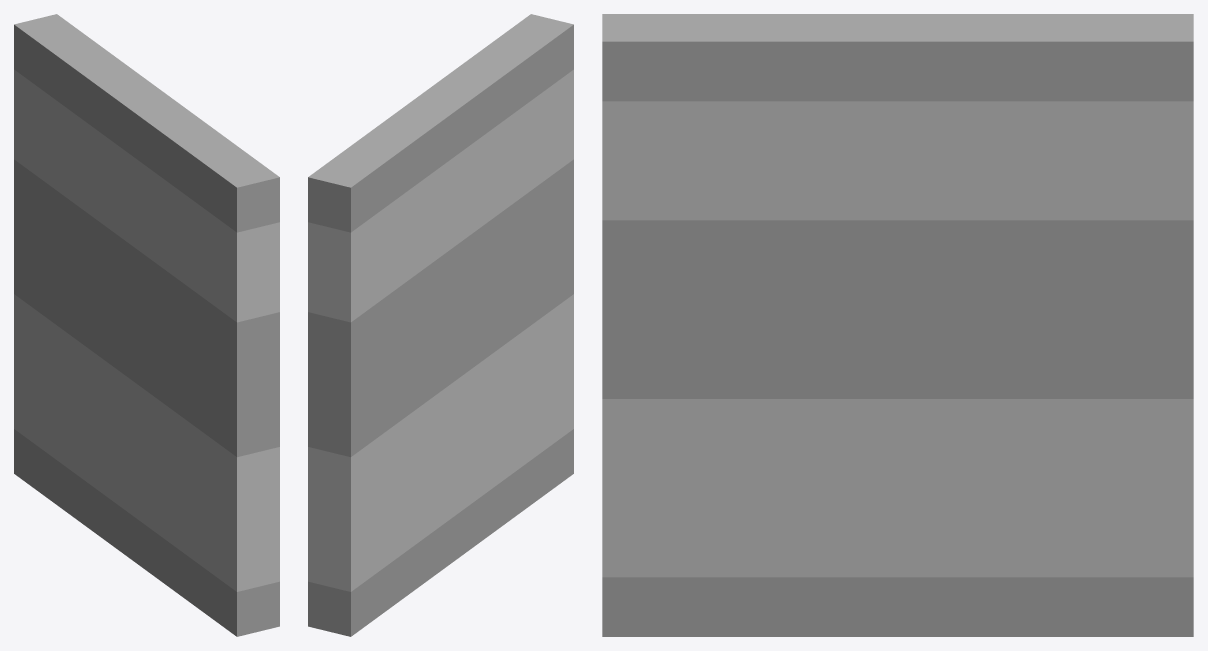
File: dirt_wall_A_9.obj
3 views of the same model, side by side, from view 1: azimuth 30°, elevation 25°; view 2: azimuth 150°, elevation 25°; view 3: azimuth 270°, elevation 25° (orthographic). The views are drawn at different scales.
Size of the model in its own units: 0.1 by 1 by 0.9.
1 material, 1 textured.
